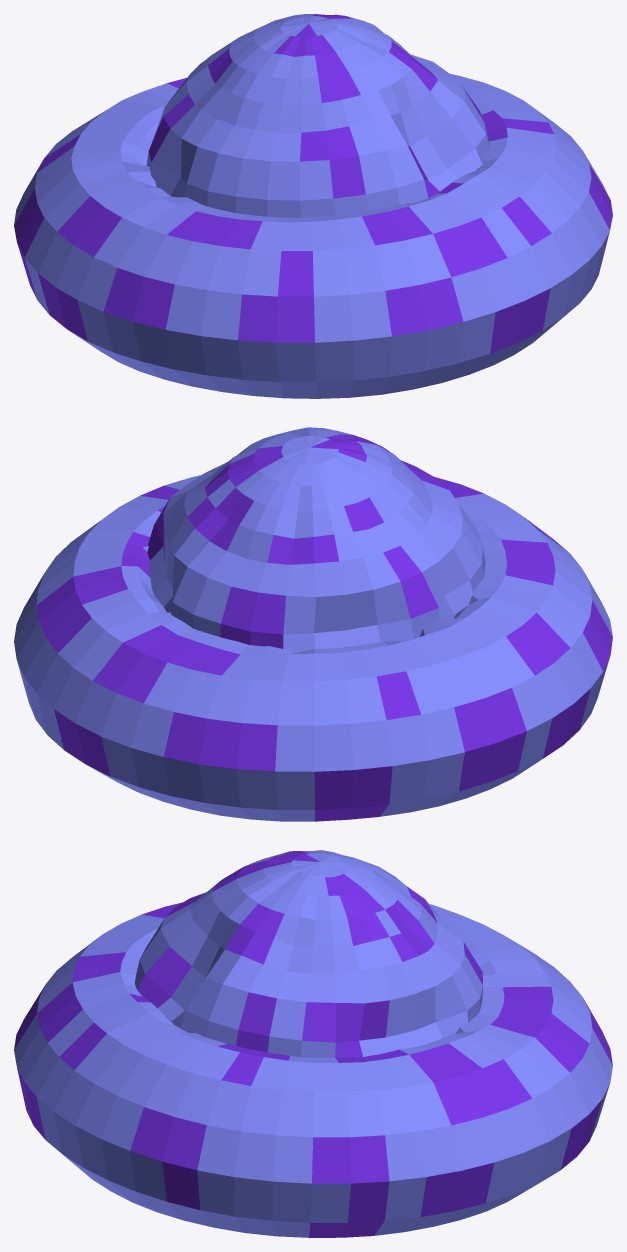
The model's file is Slime.fbx.
3 renders of one model, top to bottom at view 1: azimuth 30°, elevation 25°; view 2: azimuth 150°, elevation 25°; view 3: azimuth 270°, elevation 25°, orthographic.
Visible parts, largest first — view 1: Torus; view 2: Torus; view 3: Torus.
Boxes of the visible parts, x1,y1,x2,y2 form: Torus: [14, 14, 612, 398]; Torus: [14, 427, 612, 821]; Torus: [14, 850, 612, 1237].
Bounding box in the file's own units: 307 × 156 × 306.
